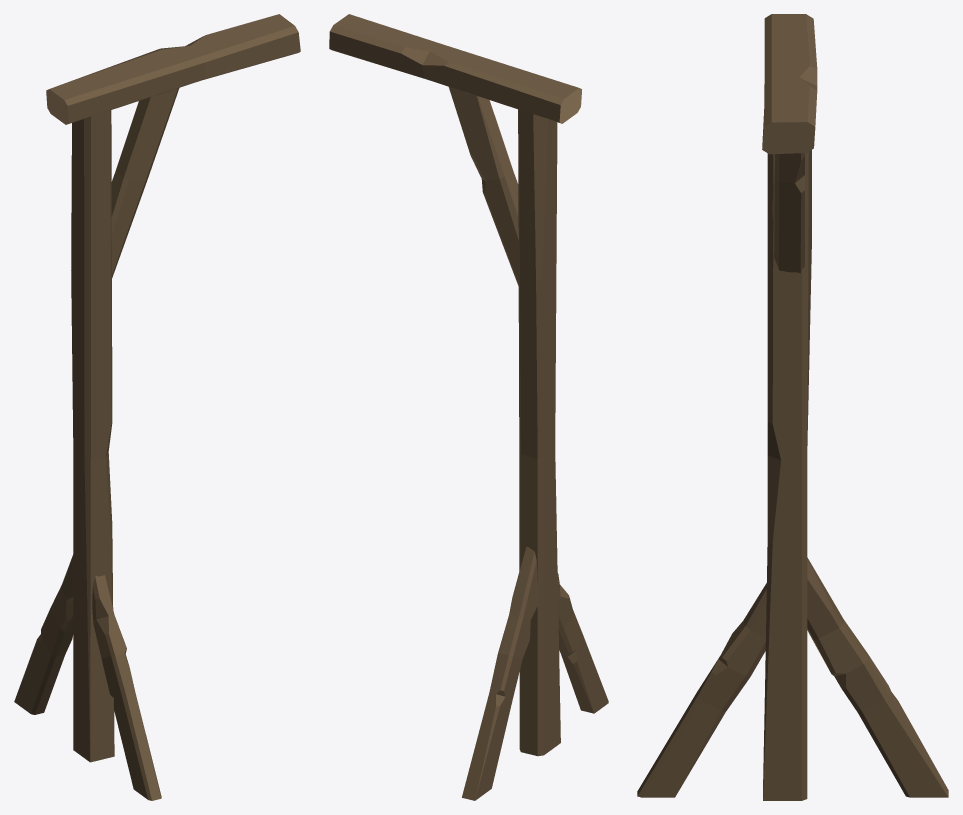
Rendered from WF_LP_HT_Environment_Holder.001.fbx.
3 views of the same model, side by side, from view 1: azimuth 30°, elevation 25°; view 2: azimuth 150°, elevation 25°; view 3: azimuth 270°, elevation 25° (orthographic). The views are drawn at different scales.
Visible parts, largest first — view 1: WF_LP_HT_Environment_Holder.001; view 2: WF_LP_HT_Environment_Holder.001; view 3: WF_LP_HT_Environment_Holder.001.
Boxes of the visible parts, left/top/right/bottom form: WF_LP_HT_Environment_Holder.001: left=14, top=14, right=300, bottom=800; WF_LP_HT_Environment_Holder.001: left=329, top=14, right=608, bottom=800; WF_LP_HT_Environment_Holder.001: left=637, top=14, right=948, bottom=800.
Size of the model in its own units: 0.8826 by 2.48 by 0.8936.
